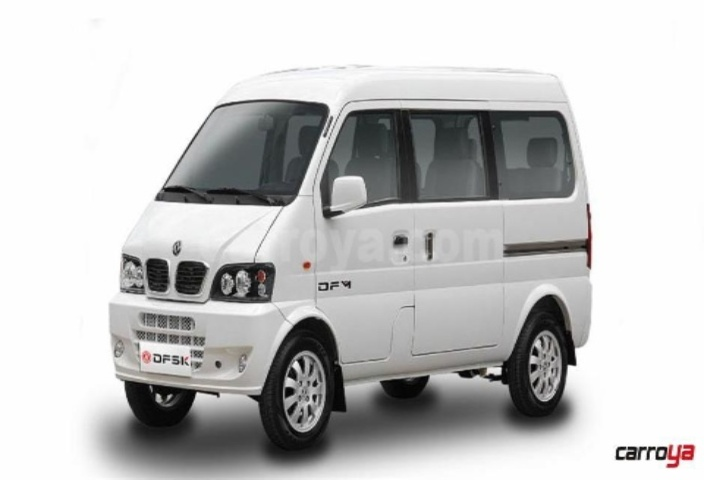van: (88, 44, 625, 463)
